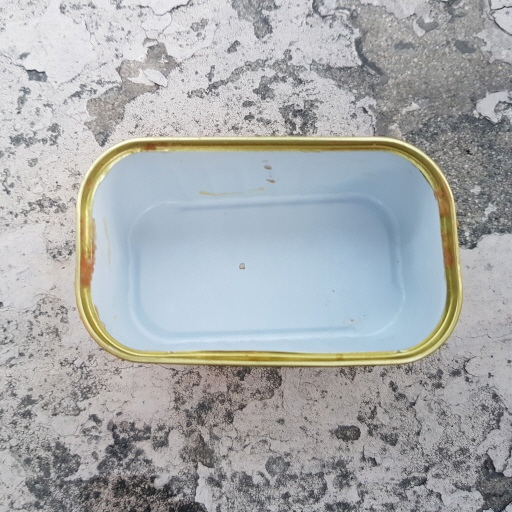Metal_2: (75, 132, 464, 374)
